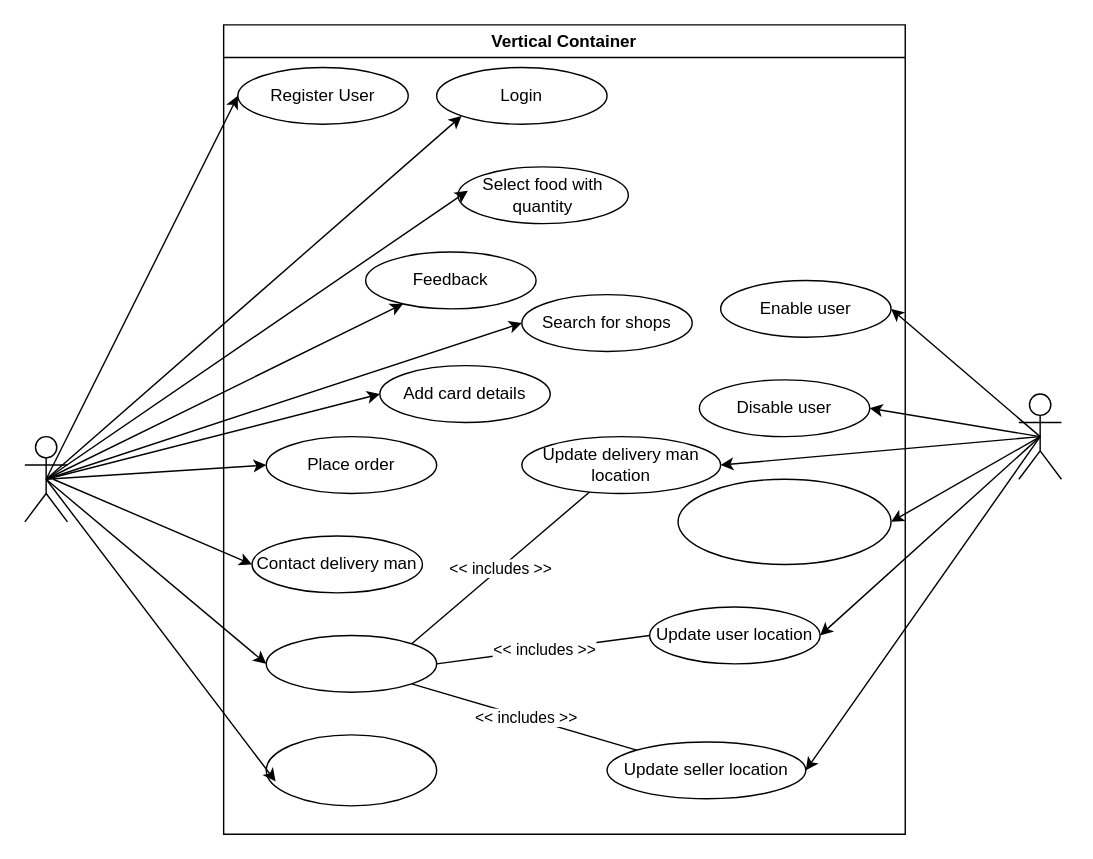
The diagram is 1093 pixels wide and 859 high, and some of its shapes have lost their labels. Each missing label, with the box of its shape:
Check availability of food and delivery man: (677, 478, 891, 564)
Finish the order and rating: (265, 733, 437, 806)
System: (1017, 393, 1061, 479)
Track order: (265, 634, 437, 692)
User: (23, 435, 67, 522)
